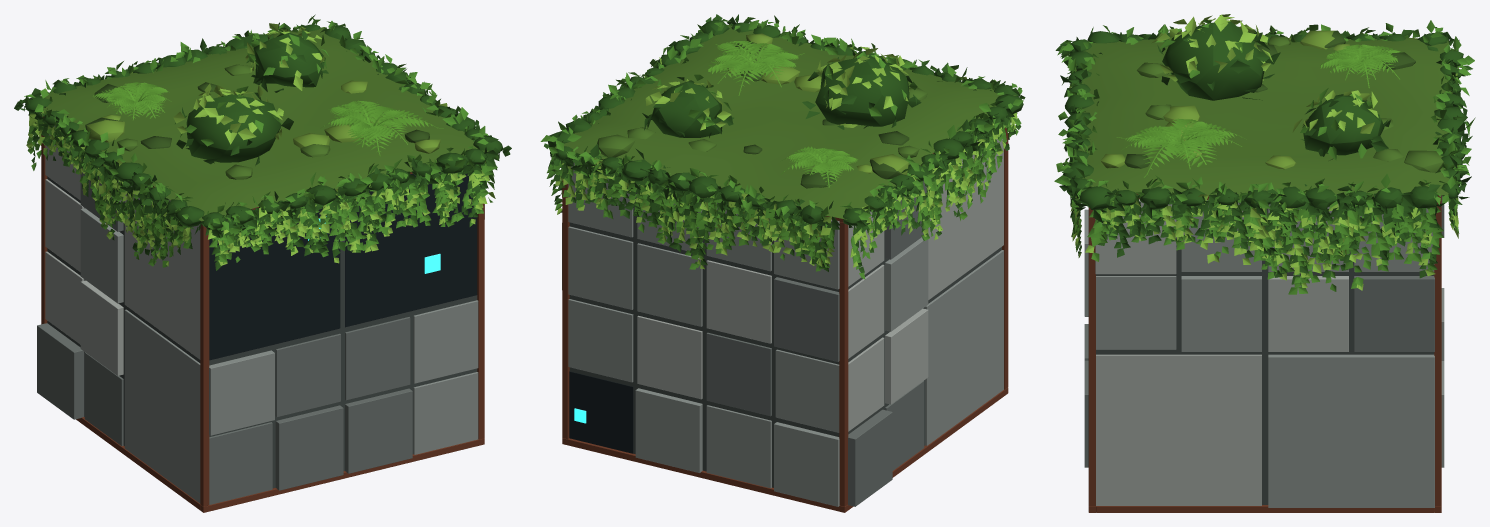
The model's file is RUIN_BLK_CubeMossy_4.glb.
The picture shows the model from 3 angles, left to right: view 1: azimuth 30°, elevation 25°; view 2: azimuth 150°, elevation 25°; view 3: azimuth 270°, elevation 25°; orthographic projection. The views are drawn at different scales.
Visible parts, largest first — view 1: RUIN_BLK_CubeMossy_4; view 2: RUIN_BLK_CubeMossy_4; view 3: RUIN_BLK_CubeMossy_4.
Boxes of the visible parts, box(x1,y1,x2,y2) form: RUIN_BLK_CubeMossy_4: box(14, 14, 511, 512); RUIN_BLK_CubeMossy_4: box(540, 14, 1025, 512); RUIN_BLK_CubeMossy_4: box(1054, 14, 1475, 512).
Bounding box in the file's own units: 4.85 × 4.99 × 4.88.
